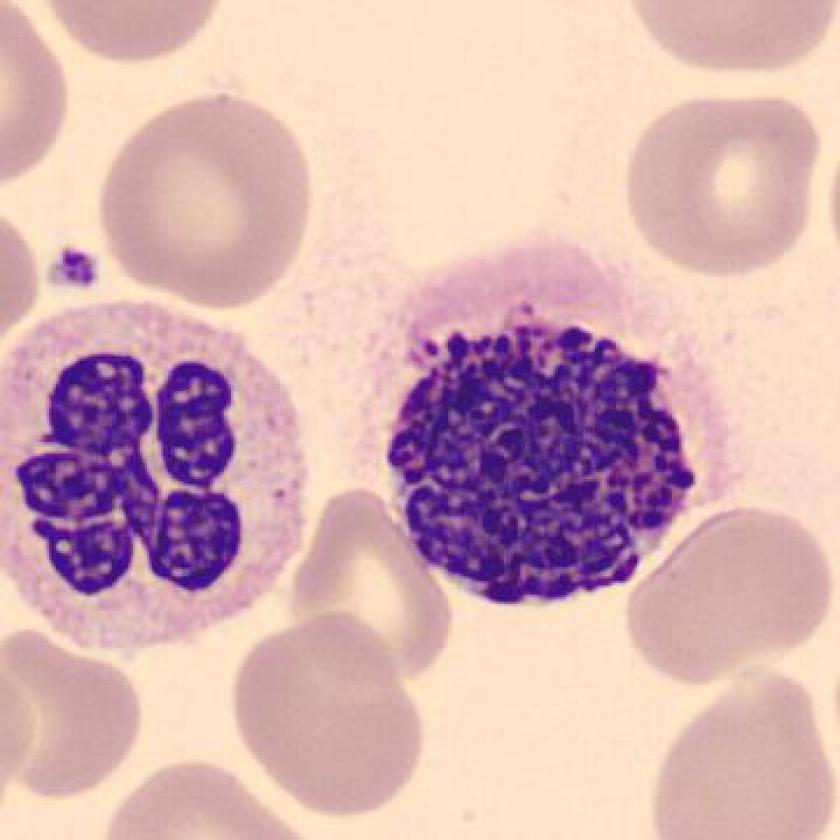basophil: (1, 286, 307, 656), (372, 297, 717, 603)
